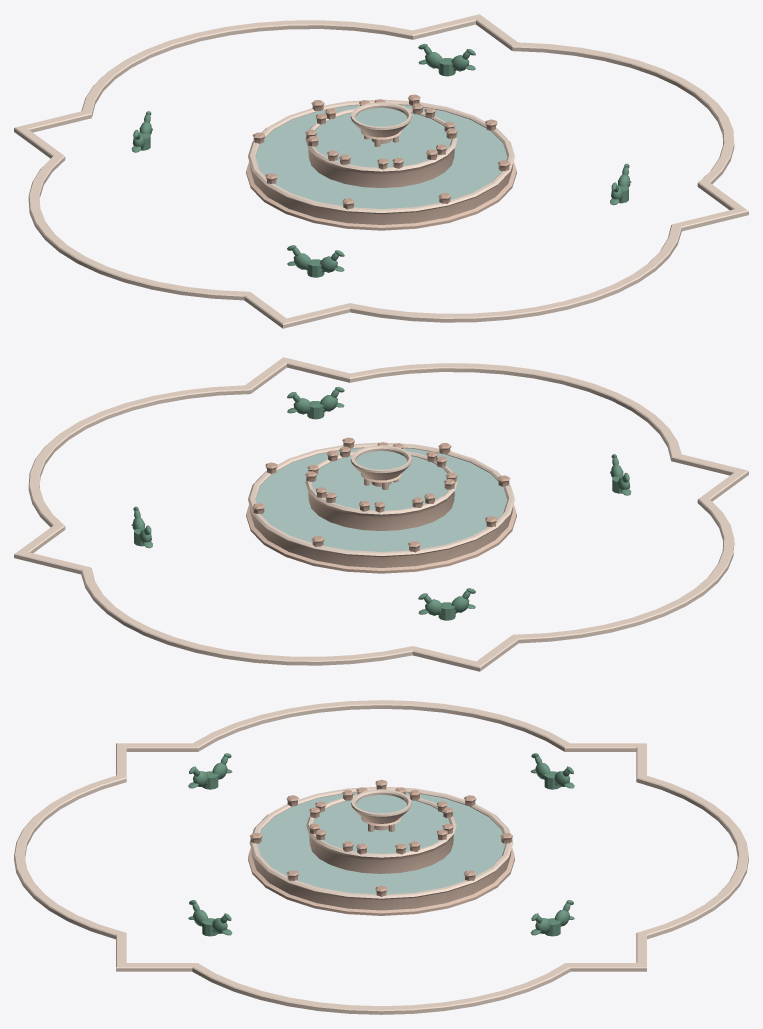
File: chi-buckingham-fountain.glb
3 views of the same model, one above another, from view 1: azimuth 30°, elevation 25°; view 2: azimuth 150°, elevation 25°; view 3: azimuth 270°, elevation 25° (orthographic).
Visible parts, largest first — view 1: Buckingham Fountain; view 2: Buckingham Fountain; view 3: Buckingham Fountain.
Boxes of the visible parts, x1=… form: Buckingham Fountain: x1=14, y1=14, x2=748, y2=328; Buckingham Fountain: x1=14, y1=357, x2=748, y2=671; Buckingham Fountain: x1=14, y1=700, x2=748, y2=1014.
Bounding box in the file's own units: 88 × 7.6 × 88.
